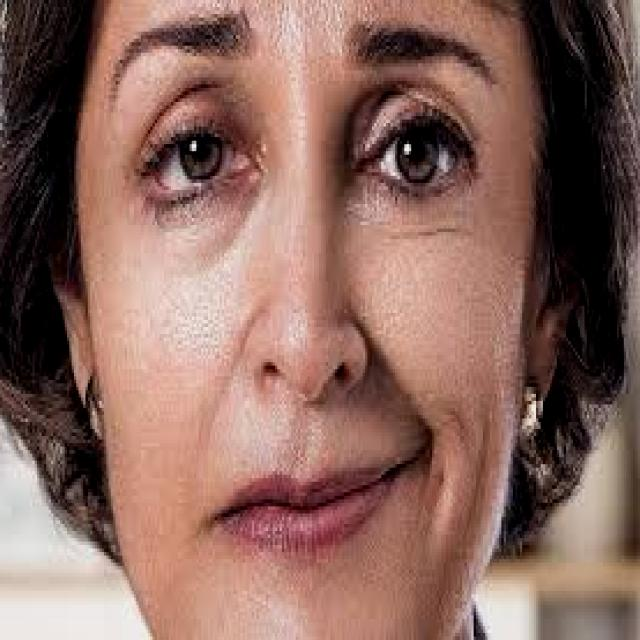stroke_face: (90, 14, 532, 618)
